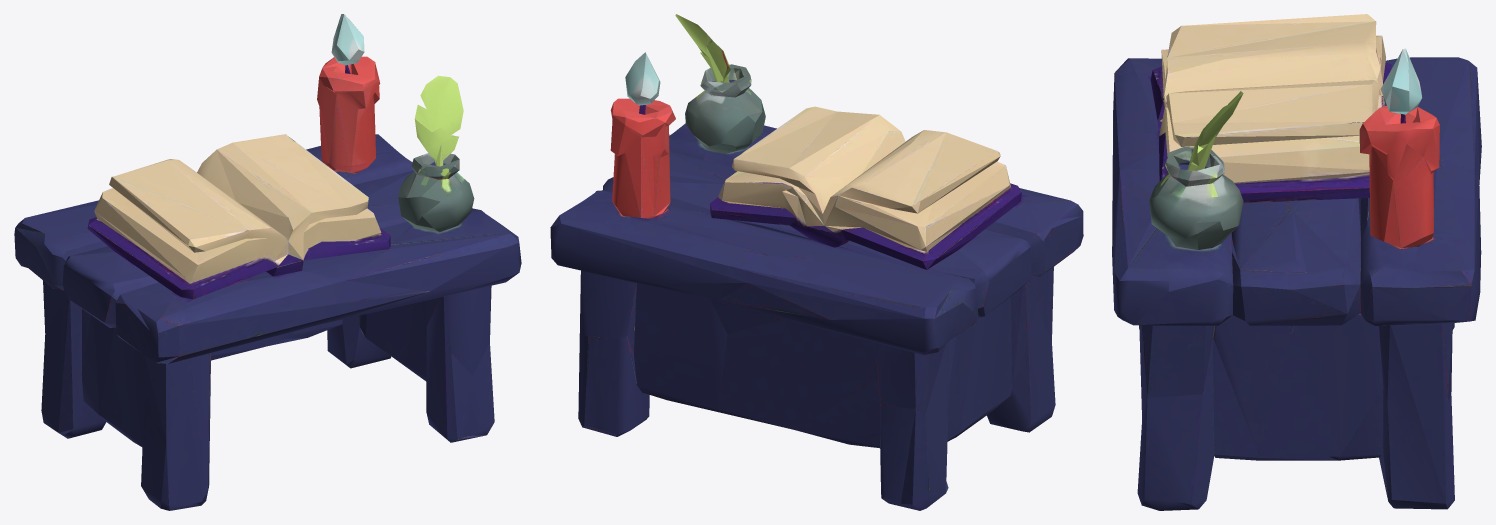
The model's file is reading_desk.glb.
3 views of the same model, side by side, from view 1: azimuth 30°, elevation 25°; view 2: azimuth 150°, elevation 25°; view 3: azimuth 270°, elevation 25° (orthographic). The views are drawn at different scales.
Size of the model in its own units: 1.89 by 1.74 by 1.33.
1 material, 1 textured.
